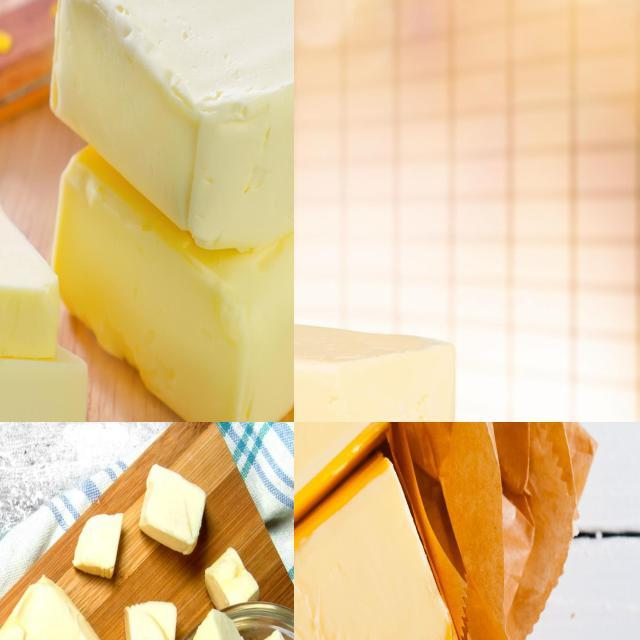Butter: (49, 130, 293, 421), (52, 0, 293, 251), (294, 449, 461, 639), (0, 188, 93, 421), (294, 422, 393, 600), (294, 320, 456, 421), (137, 466, 207, 552), (66, 511, 128, 577)
